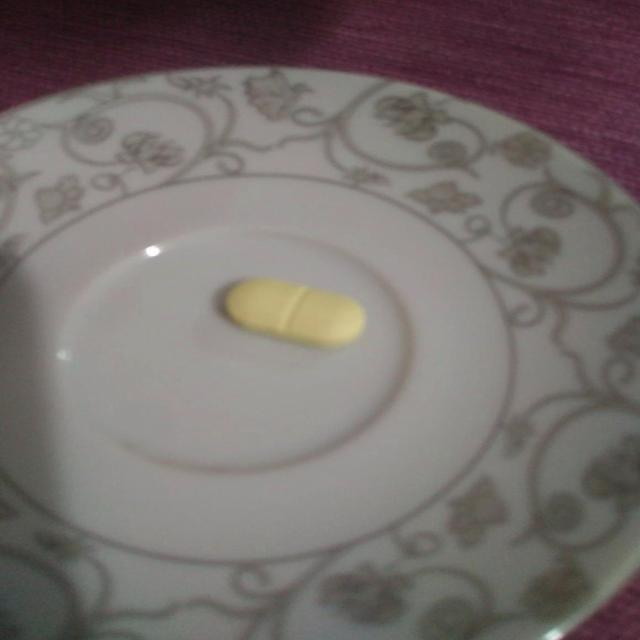pill: (218, 274, 369, 346)
